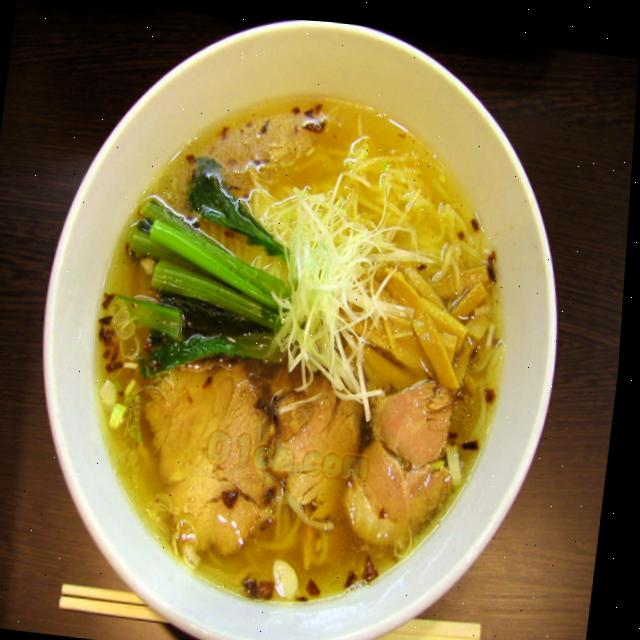面条主食: (12, 2, 595, 640)
